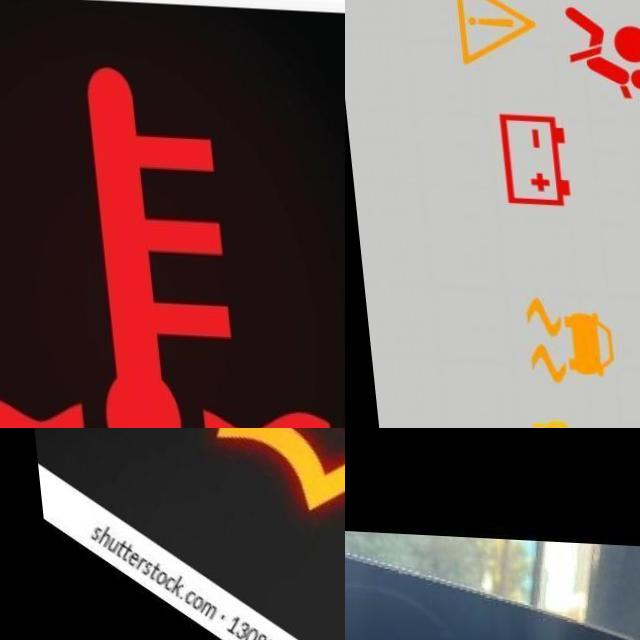Engine cooling system: (0, 54, 331, 428)
